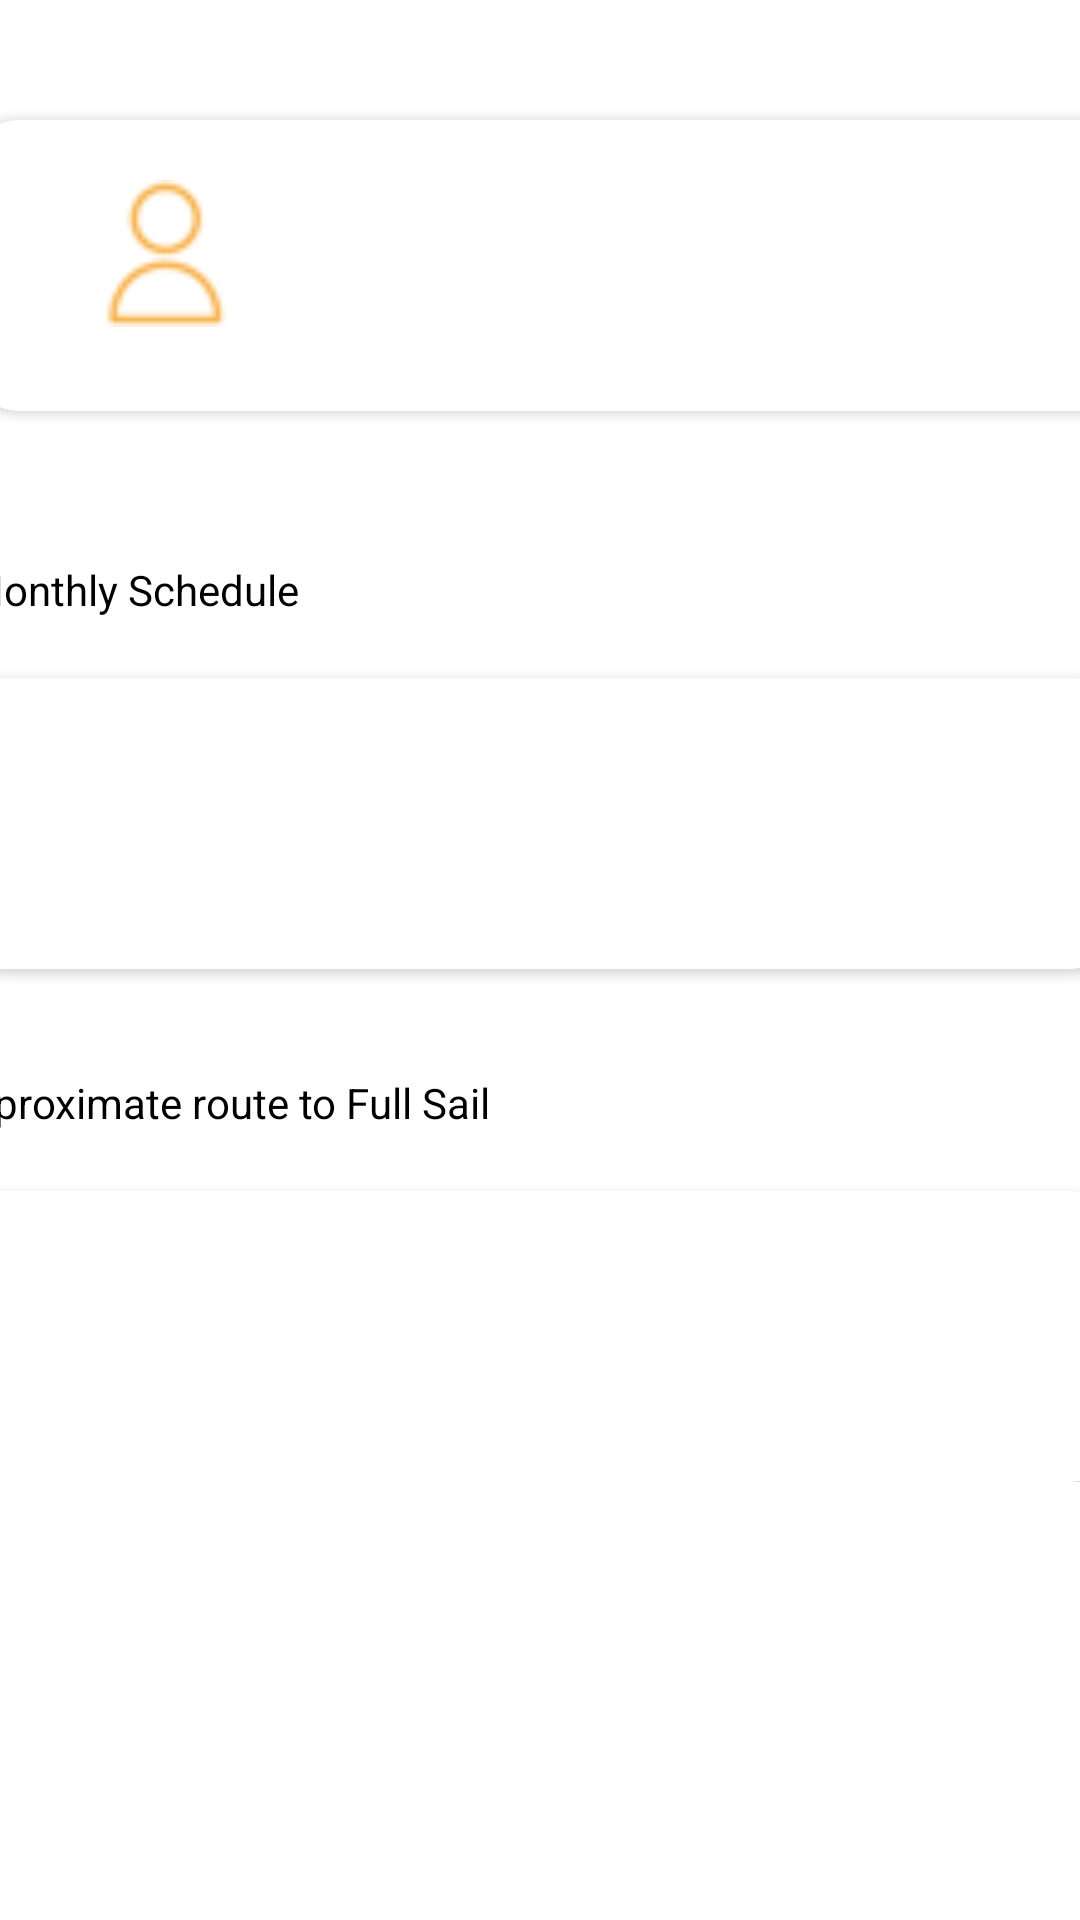

Icons on this 1080px×1920px Android screen, each with its box as (x1, y1, x2, y2):
pro: (106, 180, 225, 327)
